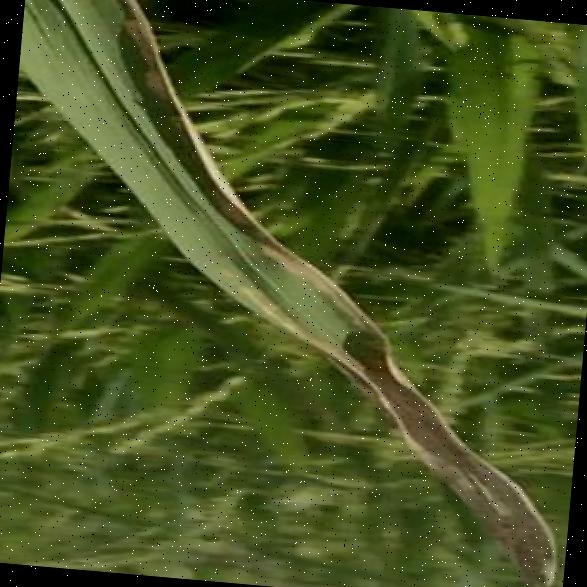Bacteria_Leaf_Blight: (204, 242, 385, 362)
